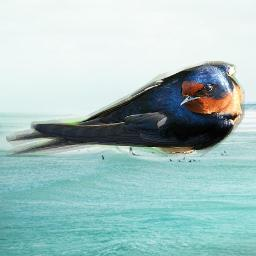Swallow: (6, 61, 245, 157)
